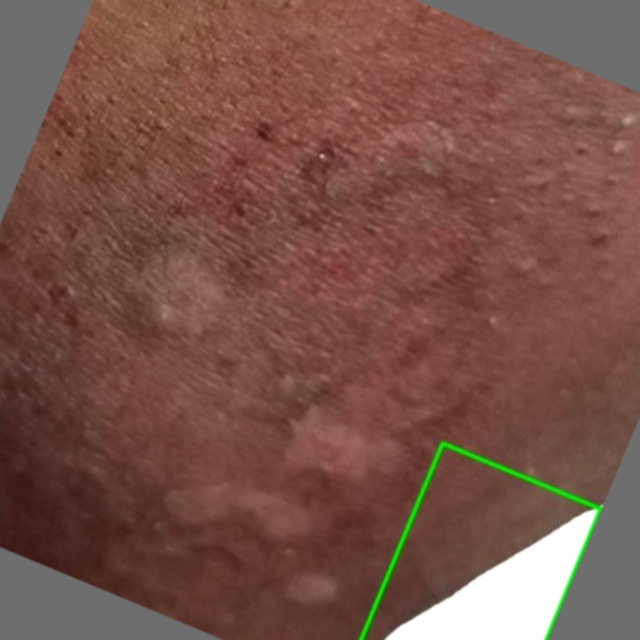Eczema: (361, 443, 600, 639)
